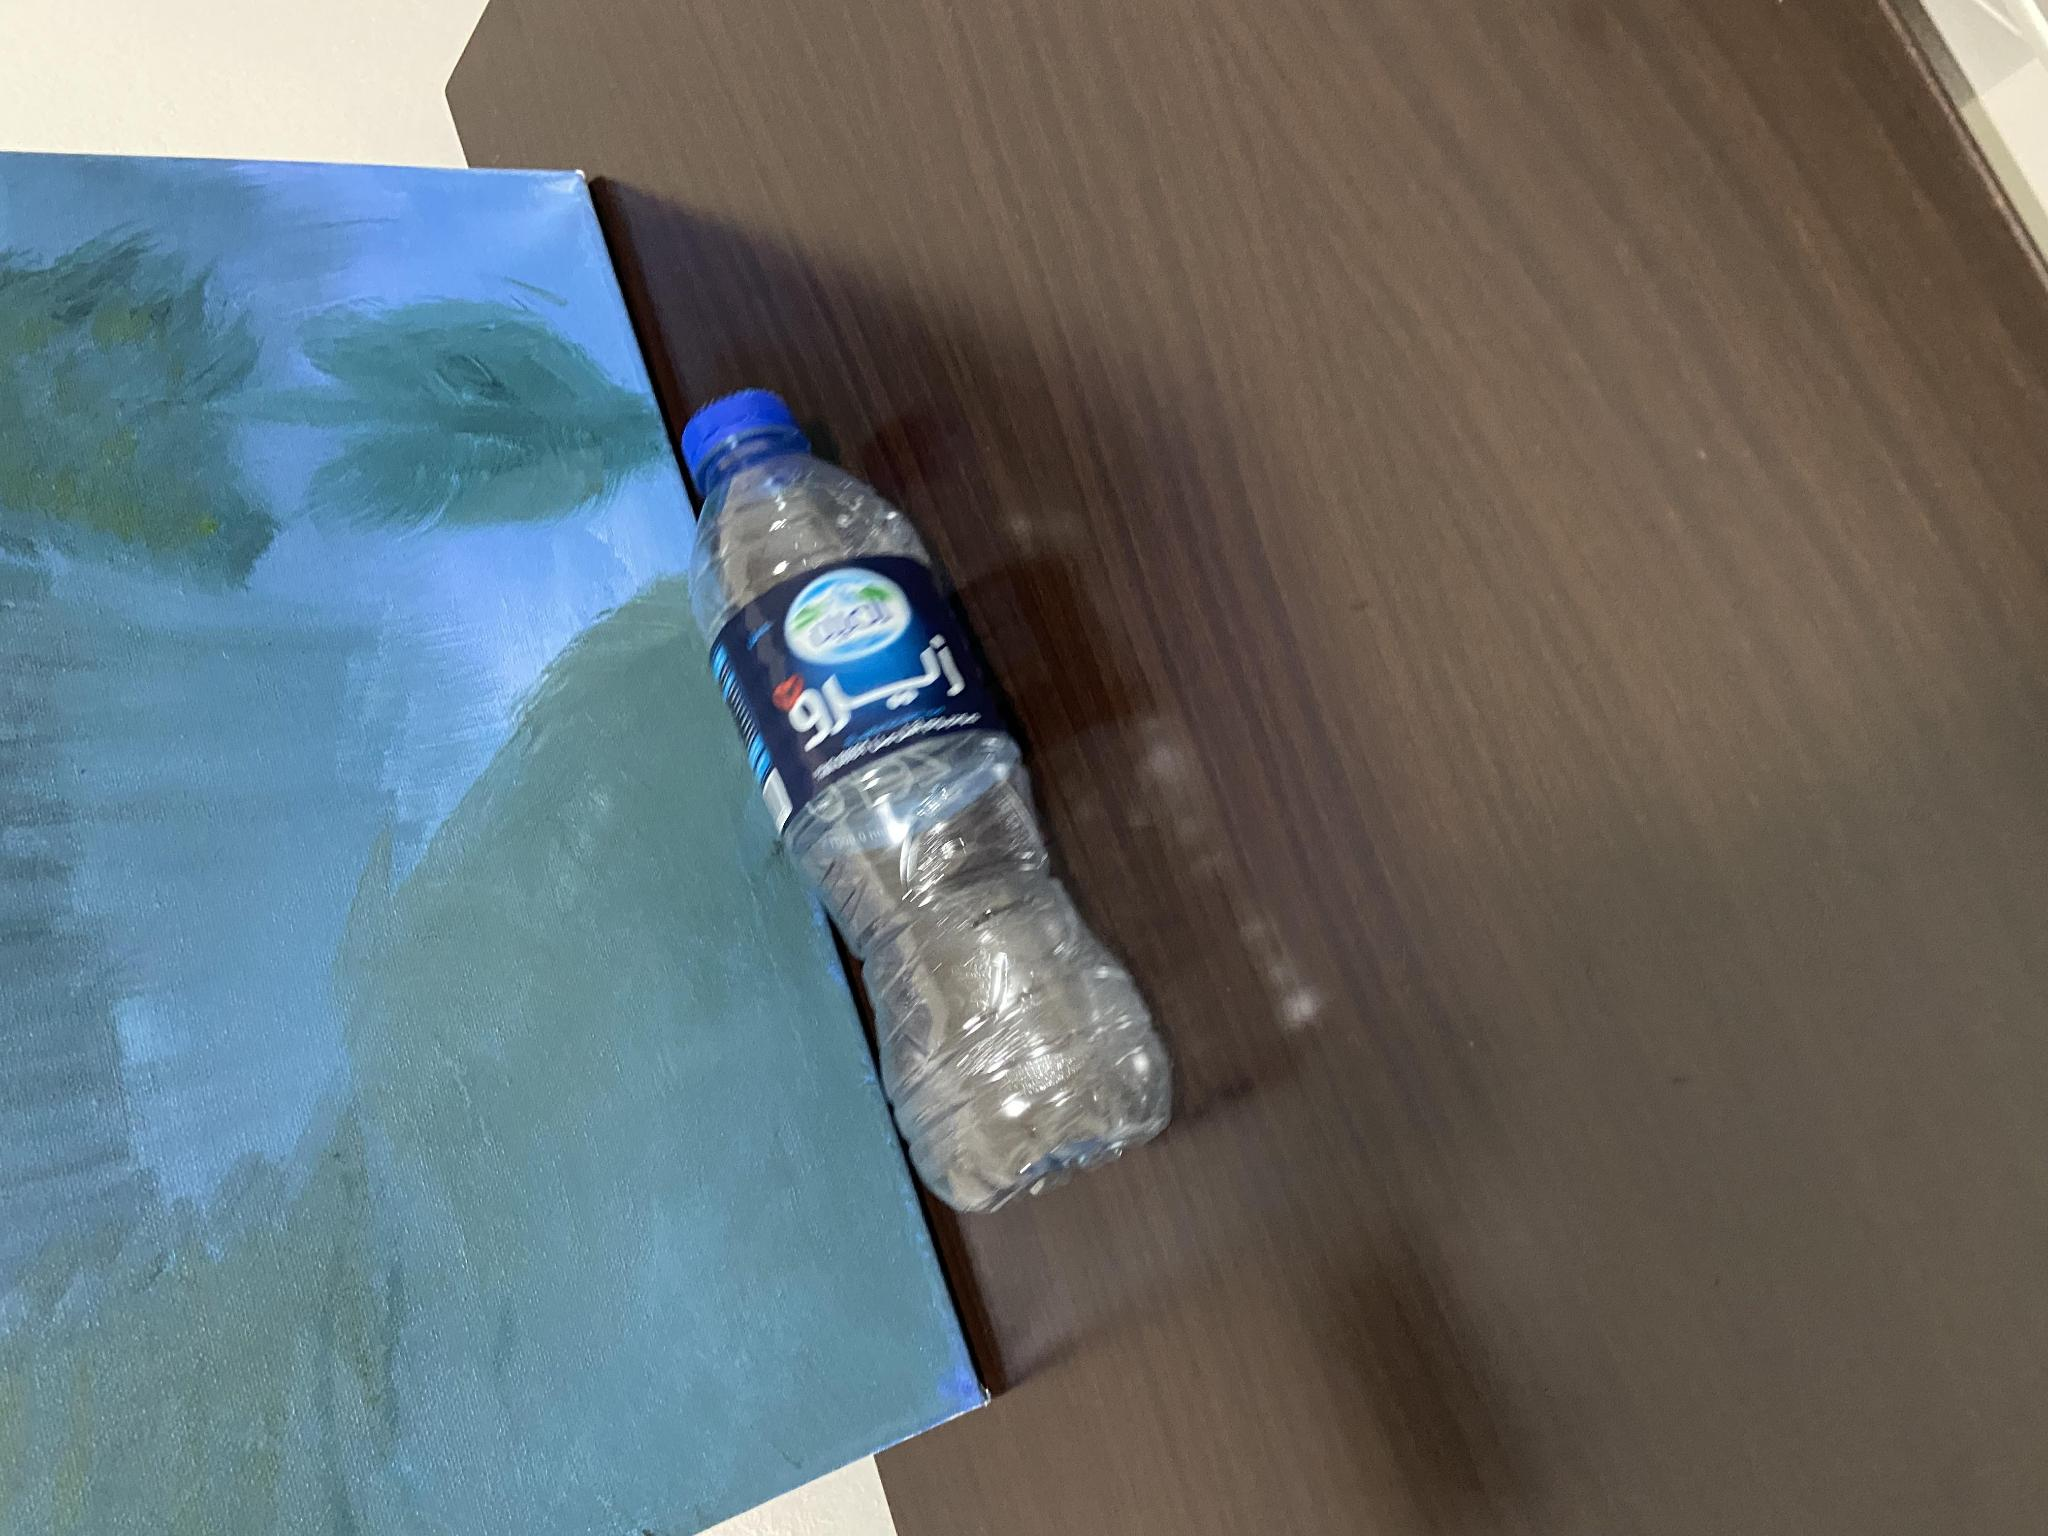bottle: (661, 360, 1190, 1229)
